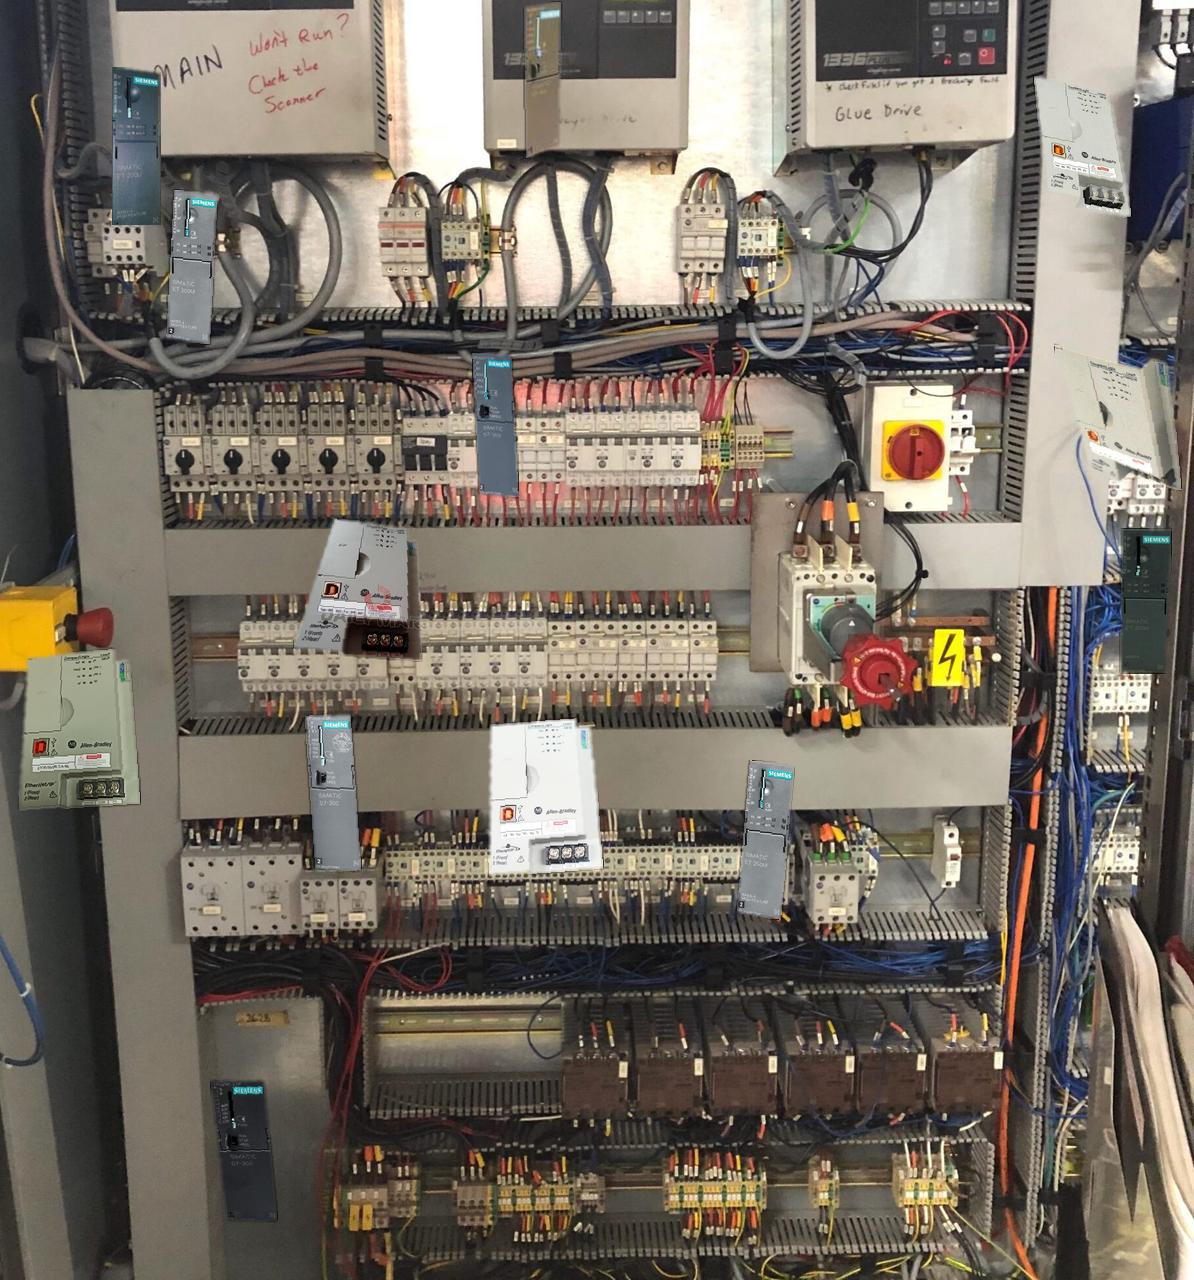AllenBradley: (19, 650, 139, 808), (1054, 346, 1181, 489), (294, 518, 420, 659), (489, 718, 601, 874), (1034, 76, 1130, 217)
Siemens: (211, 1080, 276, 1221), (306, 715, 360, 871), (472, 353, 518, 496), (525, 2, 560, 157)
